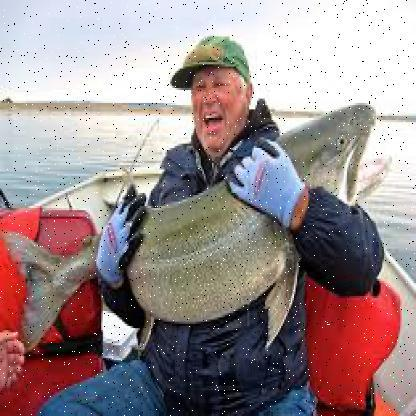fish: (6, 101, 392, 344)
